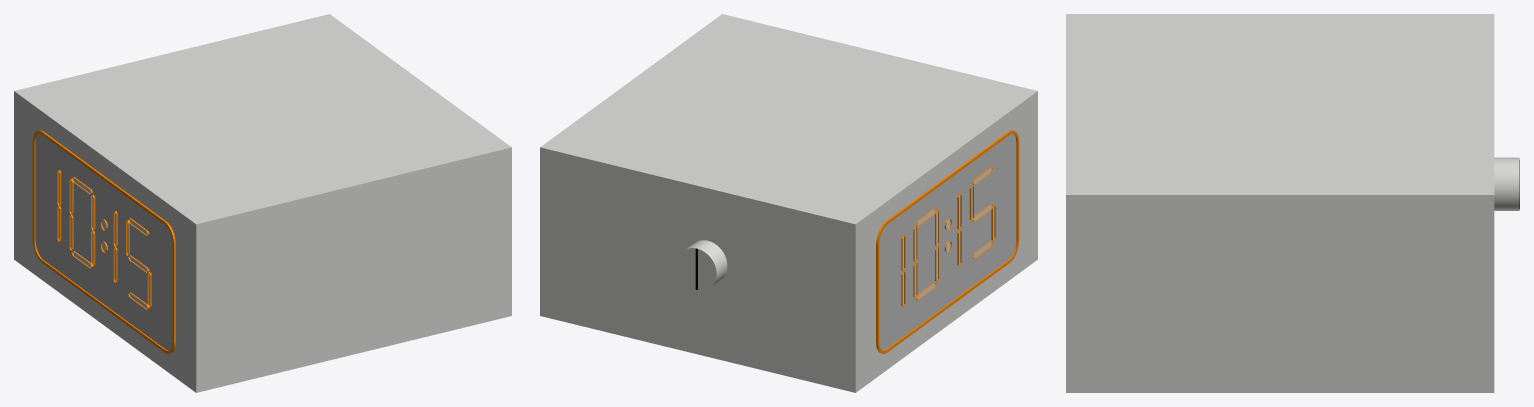
Rendered from clock.fbx.
3 views of the same model, side by side, from view 1: azimuth 30°, elevation 25°; view 2: azimuth 150°, elevation 25°; view 3: azimuth 270°, elevation 25° (orthographic). The views are drawn at different scales.
Visible parts, largest first — view 1: white, GREY, orange; view 2: white, GREY, orange; view 3: white.
Part boxes in pixels (x1,y1,x2,y2): white: [14, 14, 511, 392]; GREY: [35, 133, 172, 350]; orange: [32, 130, 175, 353]; white: [540, 14, 1037, 392]; GREY: [879, 133, 1016, 350]; orange: [876, 130, 1019, 353]; white: [1066, 14, 1519, 392].
Size of the model in its own units: 2956 by 1500 by 3116.
